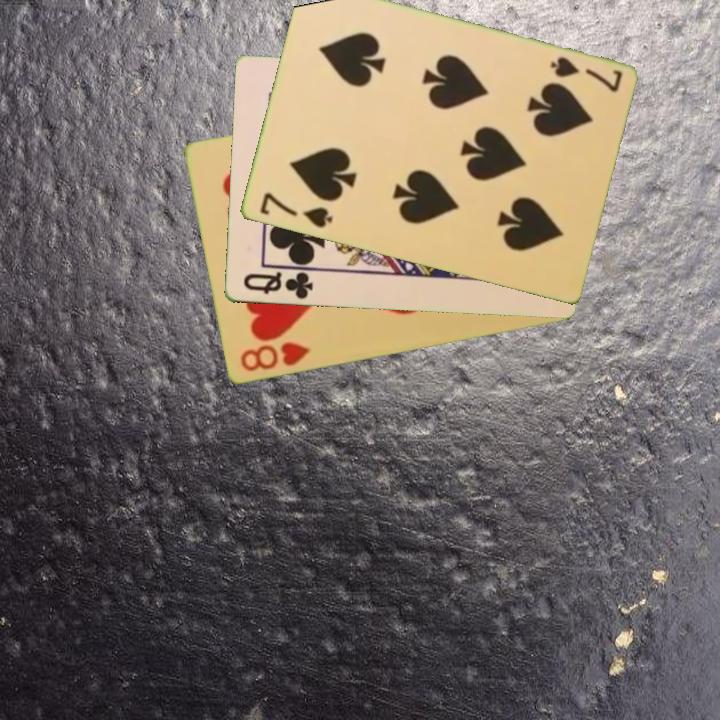7s: (255, 189, 335, 232), (546, 53, 625, 96)
8h: (236, 338, 313, 375)
Qc: (239, 268, 315, 303)
